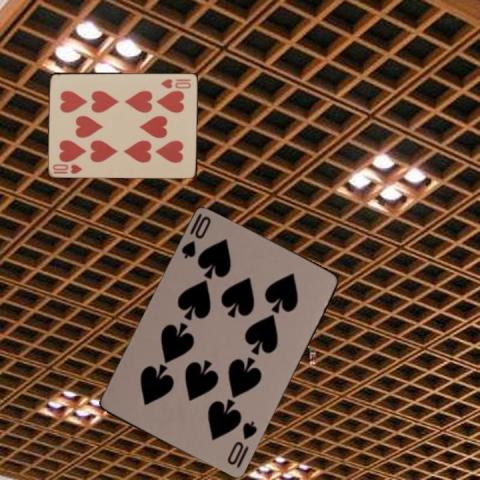10h: (50, 161, 83, 175), (157, 76, 192, 89)
10s: (178, 210, 213, 260), (224, 419, 259, 467)
